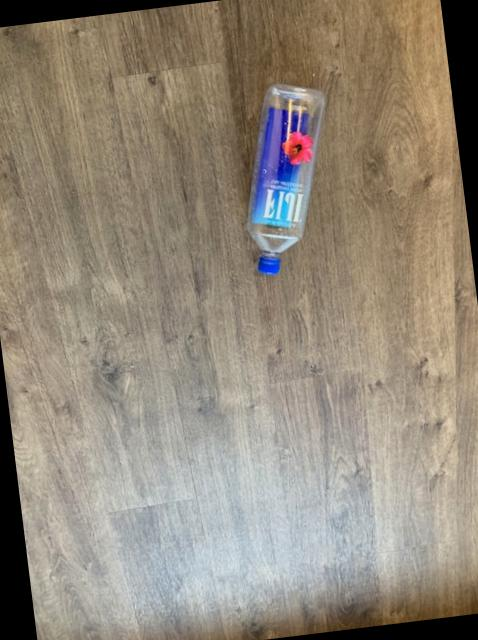plastic: (247, 86, 325, 275)
